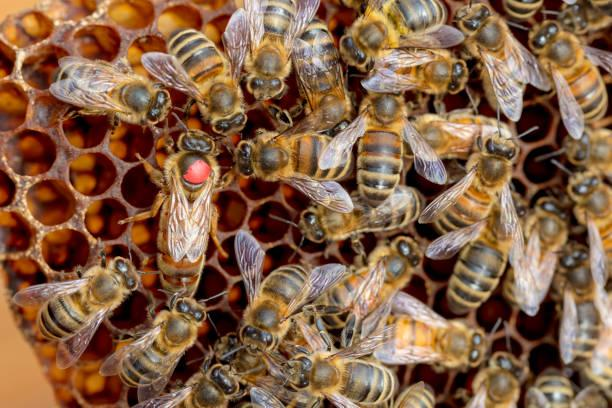Queen-Bee: (120, 123, 226, 294)
worker-bee: (13, 252, 139, 368), (318, 92, 445, 206), (234, 230, 346, 352), (100, 293, 206, 399), (141, 28, 246, 134), (456, 4, 550, 121), (279, 319, 396, 407), (234, 124, 353, 209), (419, 131, 518, 232), (528, 20, 611, 139), (296, 185, 424, 256), (339, 0, 463, 71), (374, 292, 486, 370), (49, 56, 171, 126), (316, 236, 422, 309), (503, 196, 567, 315), (244, 0, 318, 99), (292, 17, 352, 130), (446, 209, 511, 313), (555, 241, 601, 366), (362, 49, 468, 96), (137, 360, 241, 407), (567, 170, 611, 269)
